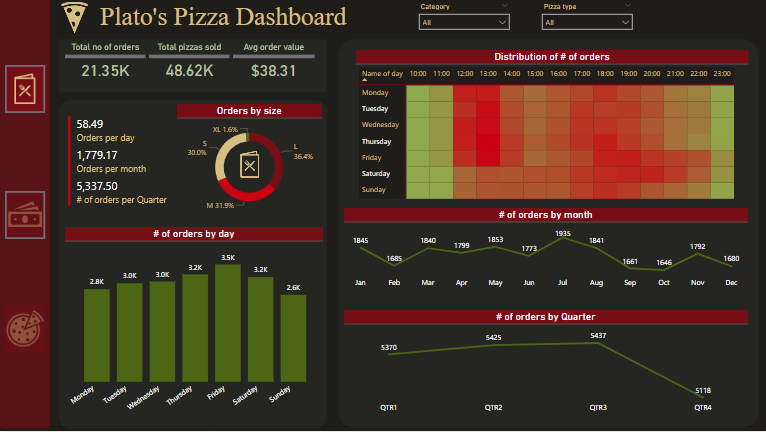

This screenshot's page, from the dashboard's own definition file:
{"tool":"powerbi","page":{"name":"Order stats","canvas":[1280,720],"ordinal":0},"visuals":[{"type":"textbox","box":[162.7,0,486.6,72.1],"z":1000},{"type":"card","title":"Total no of orders","fields":{"Values":["Count(order_details.order_id)"]},"box":[110,71.4,134.3,81.4],"z":3000},{"type":"slicer","fields":{"Values":["pizza_types.category"]},"box":[690.3,0,171.2,62.2],"z":4000},{"type":"card","title":"Total pizzas sold","fields":{"Values":["CountNonNull(order_details.quantity)"]},"box":[250,71.4,134.3,80],"z":5000},{"type":"lineChart","title":"# of orders by Quarter","fields":{"Category":["Calendar.Quarter"],"Y":["Measures (2).count_orders"]},"box":[575.7,518.6,672.9,188.6],"z":6000},{"type":"lineChart","title":"# of orders by month","fields":{"Category":["Calendar.Month"],"Y":["Measures (2).count_orders"]},"box":[575.7,348.6,672.9,141.4],"z":7000},{"type":"columnChart","title":"# of orders by day","fields":{"Category":["Calendar.Name of day"],"Y":["Measures (2).count_orders"]},"box":[110,380,430,340],"z":8000},{"type":"pivotTable","title":"Distribution of # of orders","fields":{"Rows":["Calendar.Name of day"],"Columns":["orders.time to the nearest hour"],"Values":["Measures (2).count_orders"]},"box":[585.7,82.9,652.9,254.3],"z":9000},{"type":"multiRowCard","fields":{"Values":["Measures (2).# of orders per day","Measures (2).# of orders per month","Measures (2).# of orders per Quarter"]},"box":[110,190,187.1,170],"z":12000},{"type":"image","box":[87.7,0,75,62.2],"z":13000},{"type":"image","box":[395.7,242.9,45.7,64.3],"z":14000},{"type":"slicer","fields":{"Values":["pizza_types.pizza_type_id"]},"box":[895.4,0,171.2,62.2],"z":15000},{"type":"card","title":"Avg order value","fields":{"Values":["Measures (2).avg order value"]},"box":[390,71.4,135.7,81.4],"z":16000},{"type":"donutChart","title":"Orders by size","fields":{"Y":["Measures (2).count_orders"],"Category":["pizzas.size"]},"box":[297.1,174.3,241.4,185.7],"z":17000},{"type":"actionButton","box":[10,320,67.1,80],"z":17002},{"type":"actionButton","box":[10,110,67.1,80],"z":17003},{"type":"actionButton","box":[10,510,67.1,80],"z":17004}]}

Visuals, with their boxes in screenshot pixels (x1, y1, x2, y2), scaled from the page's 1280x720 canvas onto the 766x432 screenshot:
textbox: {"x1": 97, "y1": 0, "x2": 389, "y2": 43}
"Total no of orders" card: {"x1": 66, "y1": 43, "x2": 146, "y2": 92}
slicer - pizza_types.category: {"x1": 413, "y1": 0, "x2": 516, "y2": 37}
"Total pizzas sold" card: {"x1": 150, "y1": 43, "x2": 230, "y2": 91}
"# of orders by Quarter" lineChart: {"x1": 345, "y1": 311, "x2": 747, "y2": 424}
"# of orders by month" lineChart: {"x1": 345, "y1": 209, "x2": 747, "y2": 294}
"# of orders by day" columnChart: {"x1": 66, "y1": 228, "x2": 323, "y2": 431}
"Distribution of # of orders" pivotTable: {"x1": 351, "y1": 50, "x2": 741, "y2": 202}
multiRowCard - Measures (2).# of orders per day x Measures (2).# of orders per month: {"x1": 66, "y1": 114, "x2": 178, "y2": 216}
image: {"x1": 52, "y1": 0, "x2": 97, "y2": 37}
image: {"x1": 237, "y1": 146, "x2": 264, "y2": 184}
slicer - pizza_types.pizza_type_id: {"x1": 536, "y1": 0, "x2": 638, "y2": 37}
"Avg order value" card: {"x1": 233, "y1": 43, "x2": 315, "y2": 92}
"Orders by size" donutChart: {"x1": 178, "y1": 105, "x2": 322, "y2": 216}
actionButton: {"x1": 6, "y1": 192, "x2": 46, "y2": 240}
actionButton: {"x1": 6, "y1": 66, "x2": 46, "y2": 114}
actionButton: {"x1": 6, "y1": 306, "x2": 46, "y2": 354}
